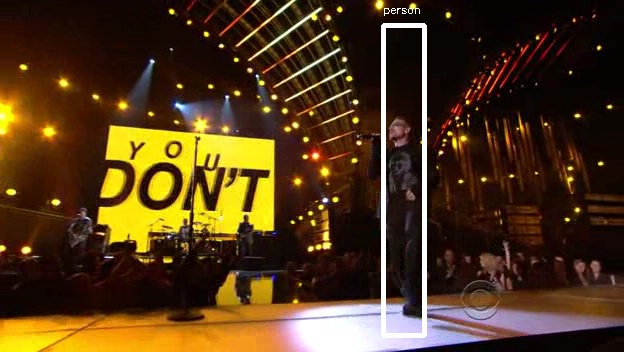person: (368, 117, 435, 227), (365, 117, 432, 227), (371, 117, 438, 227), (368, 114, 435, 224), (368, 120, 435, 230)
target_negative: (252, 111, 621, 336), (96, 291, 489, 347), (70, 196, 329, 249), (67, 310, 621, 332), (453, 137, 596, 183), (282, 105, 308, 294)
